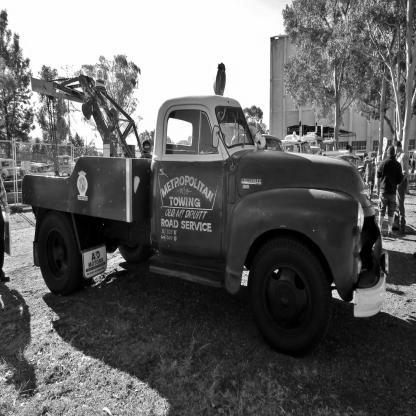truck: (20, 62, 396, 378)
